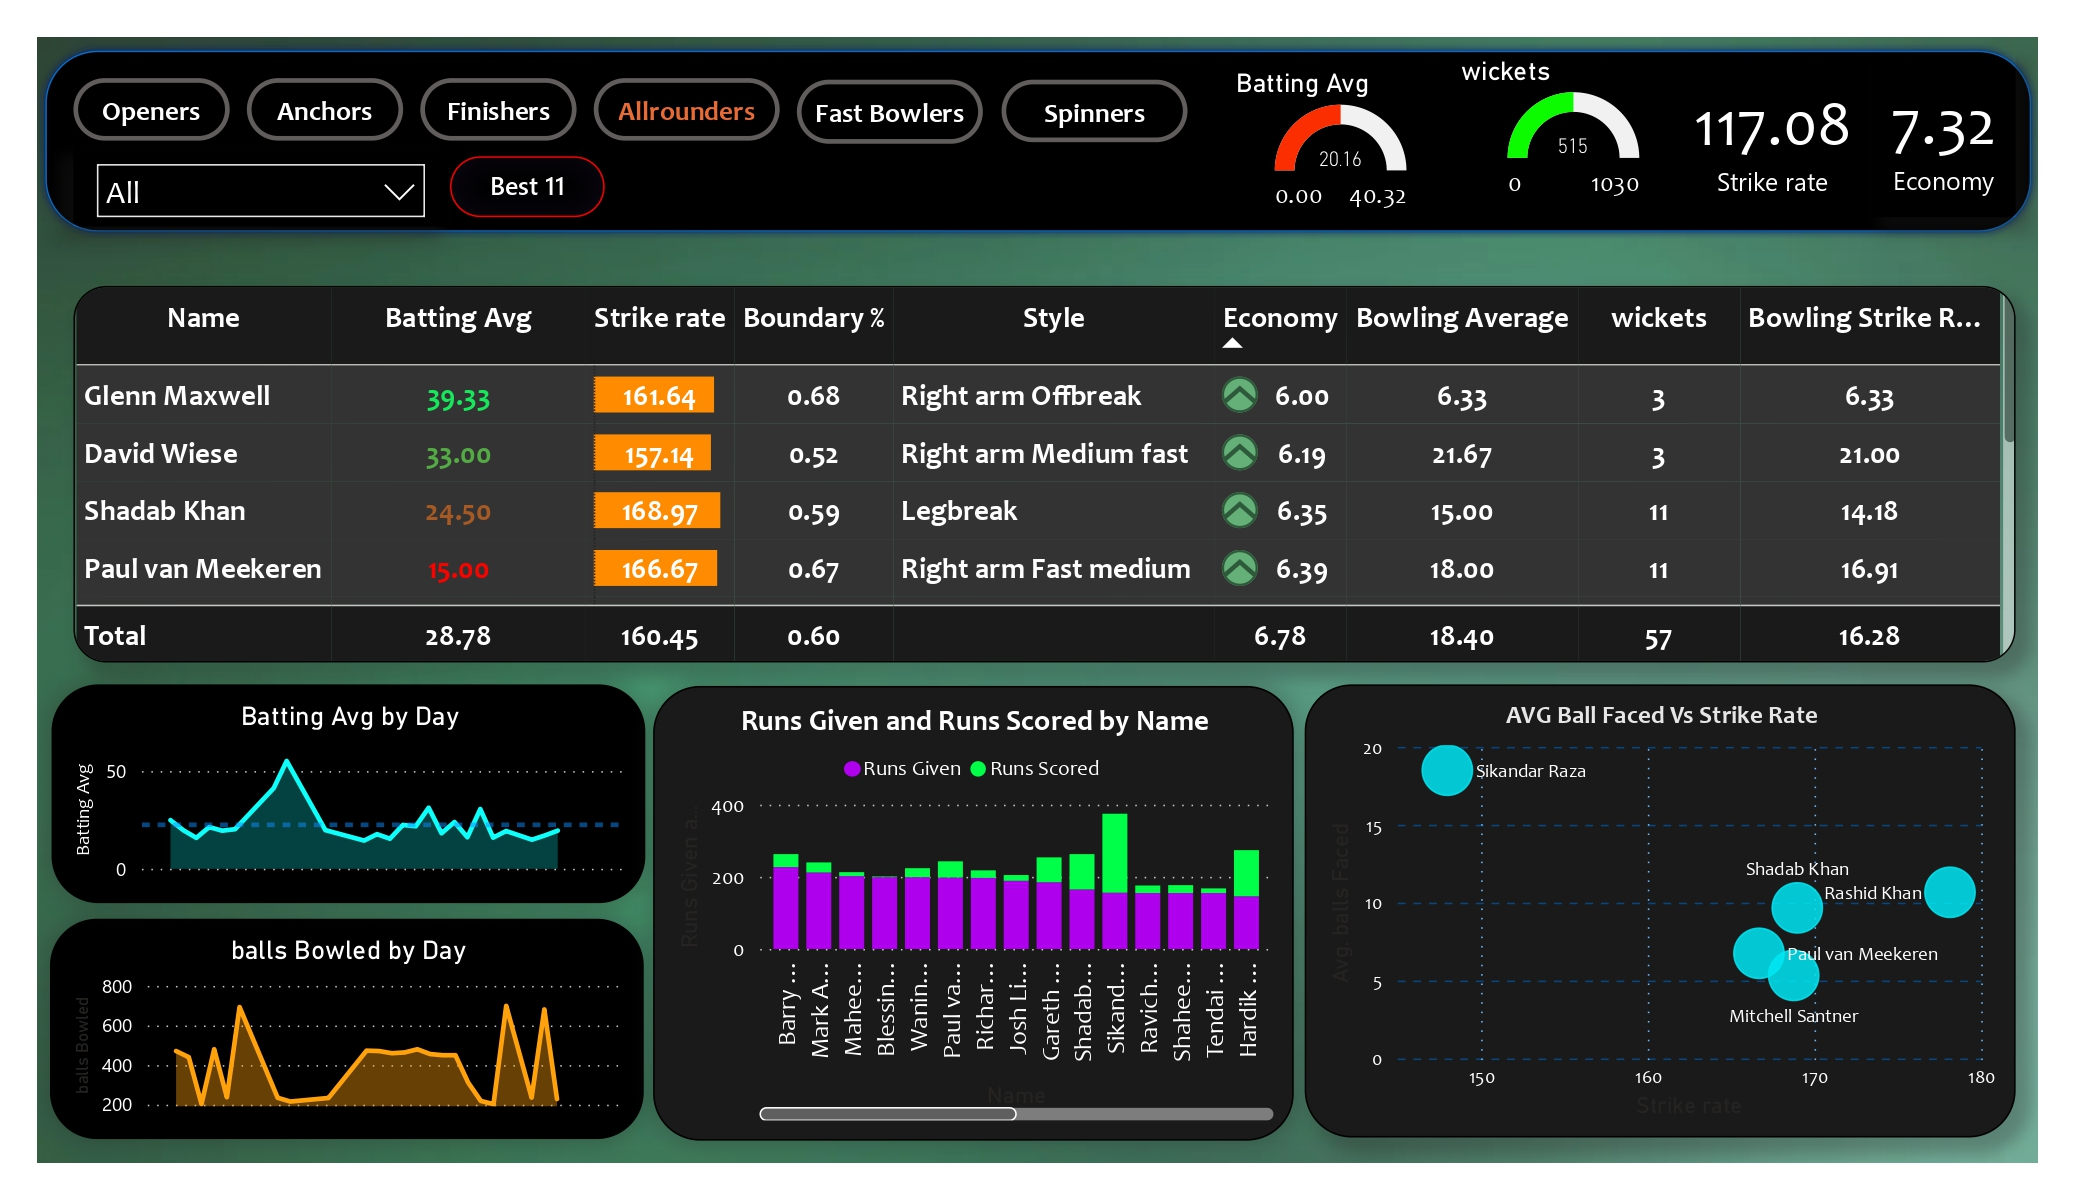

The dashboard page shown, as its layout file describes it:
{"tool":"powerbi","page":{"name":"All Rounders/Finishers","canvas":[1280,720],"ordinal":4},"visuals":[{"type":"tableEx","fields":{"Values":["dim_players.name","Key_measures.Batting Avg","Key_measures.Strike rate","Key_measures.Boundary %","dim_players.bowlingStyle","Key_measures.Economy","Key_measures.Bowling Average","Key_measures.wickets","Key_measures.Bowling Strike Rate"]},"box":[23.4,158.5,1242.1,241.7],"z":0},{"type":"scatterChart","title":"AVG Ball Faced Vs Strike Rate","fields":{"Category":["dim_players.name"],"X":["Key_measures.Strike rate"],"Y":["Key_measures.Avg. balls Faced"]},"box":[810.8,414.5,454.8,289.7],"z":1000},{"type":"shape","box":[0,2.8,1280.6,126.4],"z":2000},{"type":"gauge","fields":{"Y":["Key_measures.Batting Avg"]},"box":[761.7,18.9,144.4,101],"z":3000},{"type":"card","fields":{"Values":["Key_measures.Economy"]},"box":[1173.7,11.1,92.2,104.4],"z":4000},{"type":"gauge","fields":{"Y":["Key_measures.wickets"]},"box":[906.1,11.1,154.3,101],"z":5000},{"type":"card","fields":{"Values":["Key_measures.Strike rate"]},"box":[1047.1,7.8,126.6,111],"z":6000},{"type":"areaChart","fields":{"Category":["dim_match_summary.matchDate.Variation.Date Hierarchy.Day"],"Y":["Key_measures.Batting Avg"]},"box":[9.1,414.5,380,140],"z":7000},{"type":"areaChart","fields":{"Y":["Key_measures.balls Bowled"],"Category":["dim_match_summary.matchDate.Variation.Date Hierarchy.Day"]},"box":[7.8,563.9,380.6,141],"z":8000},{"type":"actionButton","box":[23.4,26,100,40.3],"z":9000},{"type":"actionButton","box":[134.2,26,100,40.3],"z":10000},{"type":"actionButton","box":[244.9,26,100,40.3],"z":11000},{"type":"actionButton","box":[355.7,26,119.5,40.3],"z":12000},{"type":"actionButton","box":[485.9,27.3,119.5,40.3],"z":13000},{"type":"lineStackedColumnComboChart","fields":{"Y":["Sum(fact_bowling_summary.runs)","Sum(fact_batting_summary.runs)"],"Category":["dim_players.name"]},"box":[394,415.1,410.4,291.4],"z":14000},{"type":"actionButton","box":[616.9,26.8,118.9,40.1],"z":15000},{"type":"slicer","fields":{"Values":["dim_match_summary.stage"]},"box":[23.3,71.1,240,50],"z":16000},{"type":"actionButton","box":[264.3,76.2,98.8,39.3],"z":17000}]}

Visuals, with their boxes on the page's 1280x720 design canvas (x1, y1, x2, y2). These are canvas units, not pixel positions in the 2075x1200 screenshot, which may show the page scaled, cropped or inside an application window:
tableEx - dim_players.name x Key_measures.Batting Avg: (23, 158, 1266, 400)
"AVG Ball Faced Vs Strike Rate" scatterChart: (811, 414, 1266, 704)
shape: (0, 3, 1281, 129)
gauge - Key_measures.Batting Avg: (762, 19, 906, 120)
card - Key_measures.Economy: (1174, 11, 1266, 116)
gauge - Key_measures.wickets: (906, 11, 1060, 112)
card - Key_measures.Strike rate: (1047, 8, 1174, 119)
areaChart - dim_match_summary.matchDate.Variation.Date Hierarchy.Day x Key_measures.Batting Avg: (9, 414, 389, 554)
areaChart - Key_measures.balls Bowled x dim_match_summary.matchDate.Variation.Date Hierarchy.Day: (8, 564, 388, 705)
actionButton: (23, 26, 123, 66)
actionButton: (134, 26, 234, 66)
actionButton: (245, 26, 345, 66)
actionButton: (356, 26, 475, 66)
actionButton: (486, 27, 605, 68)
lineStackedColumnComboChart - Sum(fact_bowling_summary.runs) x Sum(fact_batting_summary.runs): (394, 415, 804, 706)
actionButton: (617, 27, 736, 67)
slicer - dim_match_summary.stage: (23, 71, 263, 121)
actionButton: (264, 76, 363, 116)
